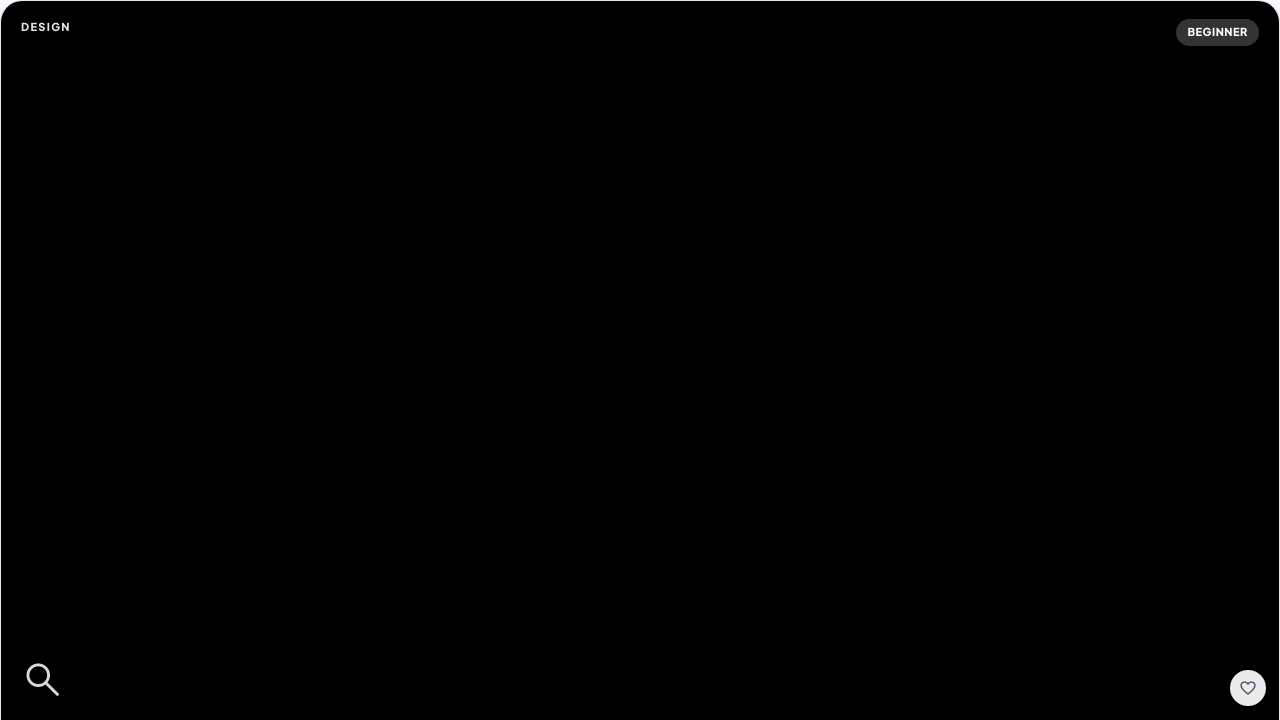
wishlist and cart (F-004) › the heart on a course card saves and unsaves it
Later steps or results of the test are not shown.
Click the button named "Save UX Research in Five Days to wishlist".
click(1248, 688)  # box [1230,670,1266,706]
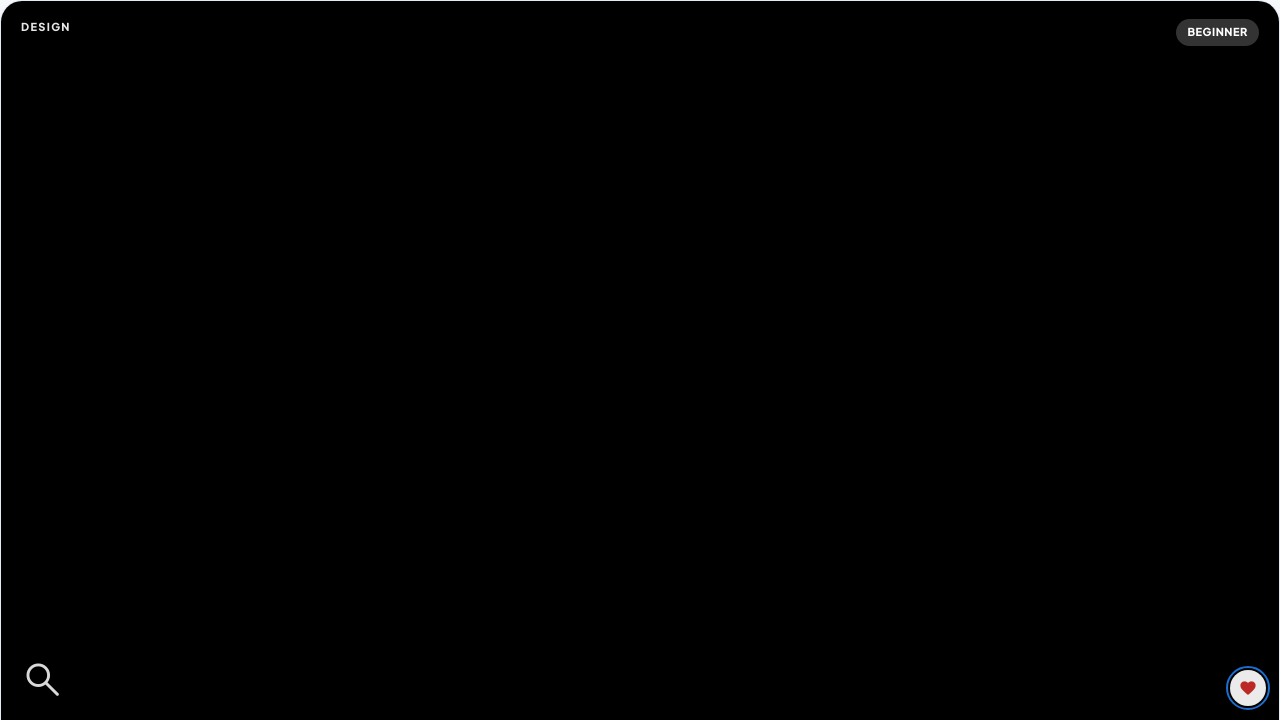
Result: the button named "Remove UX Research in Five Days from wishlist" is pressed at [1230,670,1266,706]
